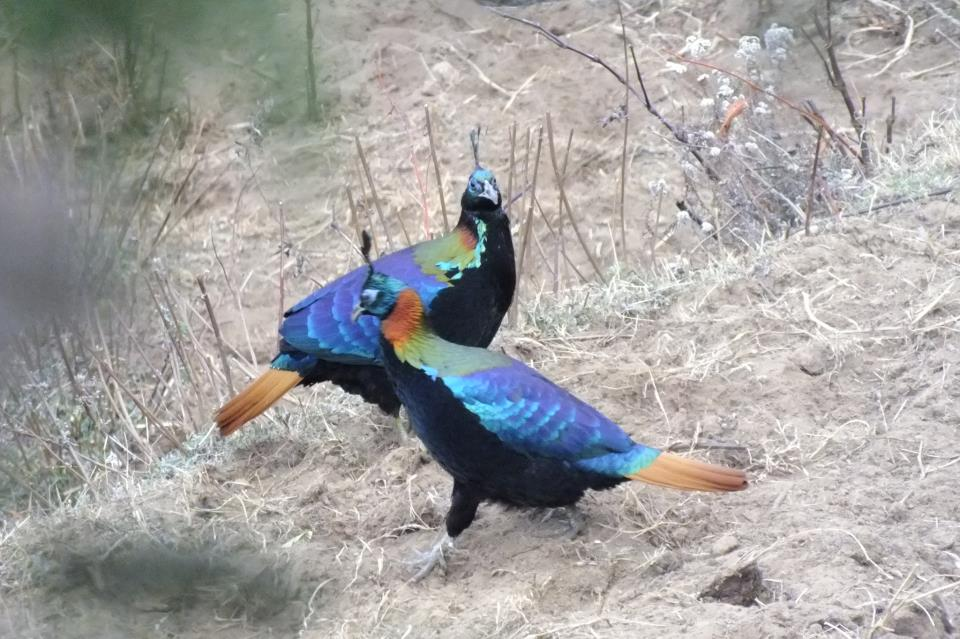bird: (346, 231, 756, 571), (206, 160, 522, 465)
